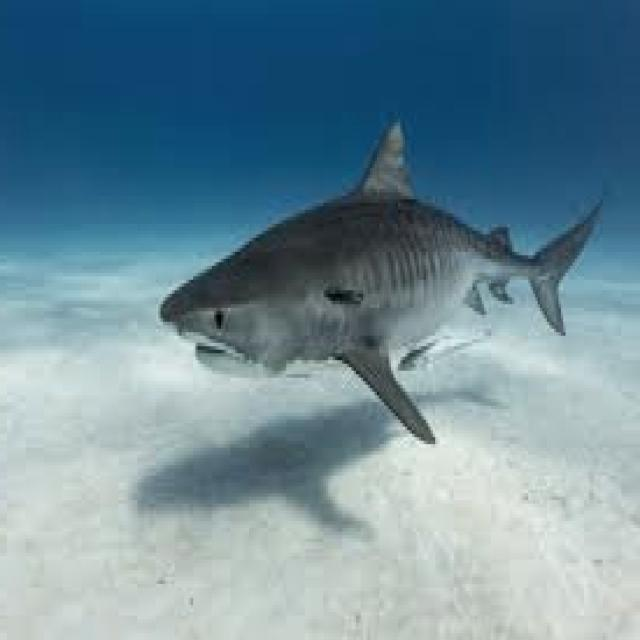shark: (161, 119, 600, 441)
